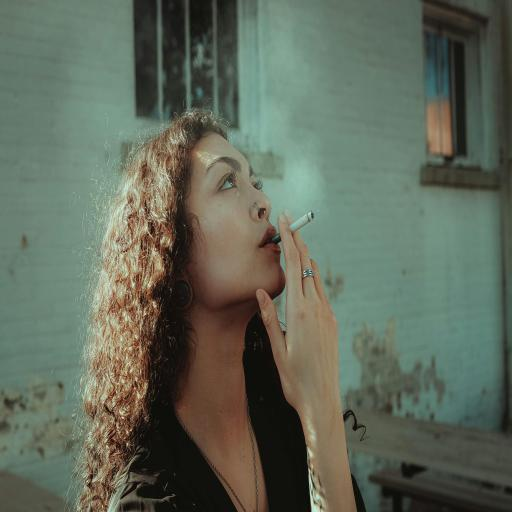terdeteksi merokok: (242, 150, 318, 312)
